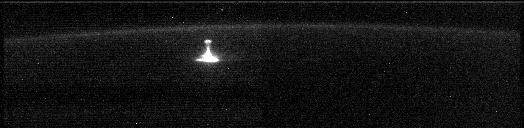positive: (202, 37, 214, 53)
